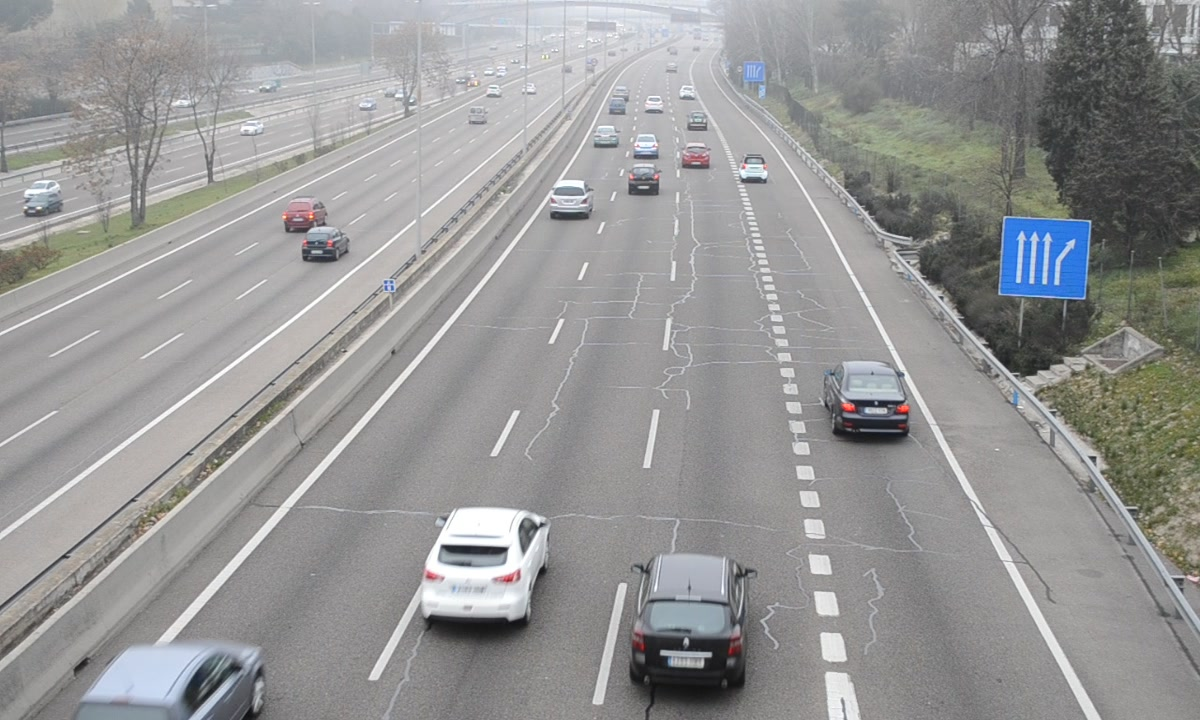car: (418, 508, 551, 633), (631, 552, 750, 687), (823, 359, 913, 442), (548, 180, 594, 221), (627, 163, 661, 197), (739, 153, 770, 184), (681, 143, 711, 170), (592, 125, 621, 149), (633, 133, 659, 159)
